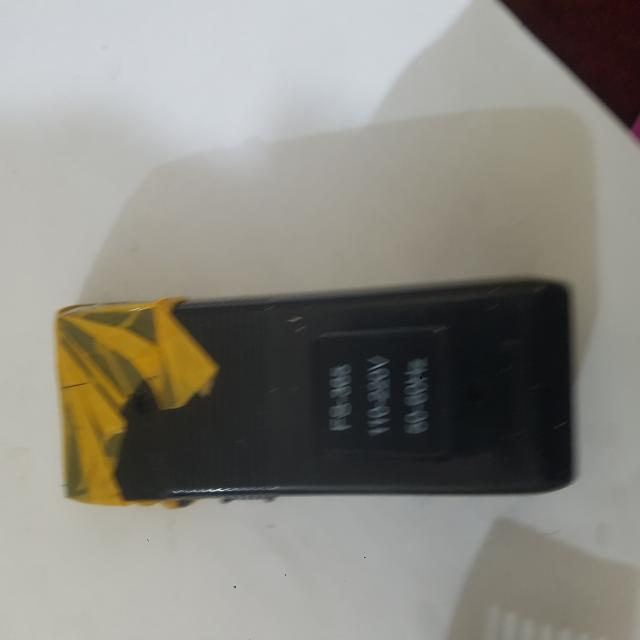electronic: (54, 275, 574, 507)
